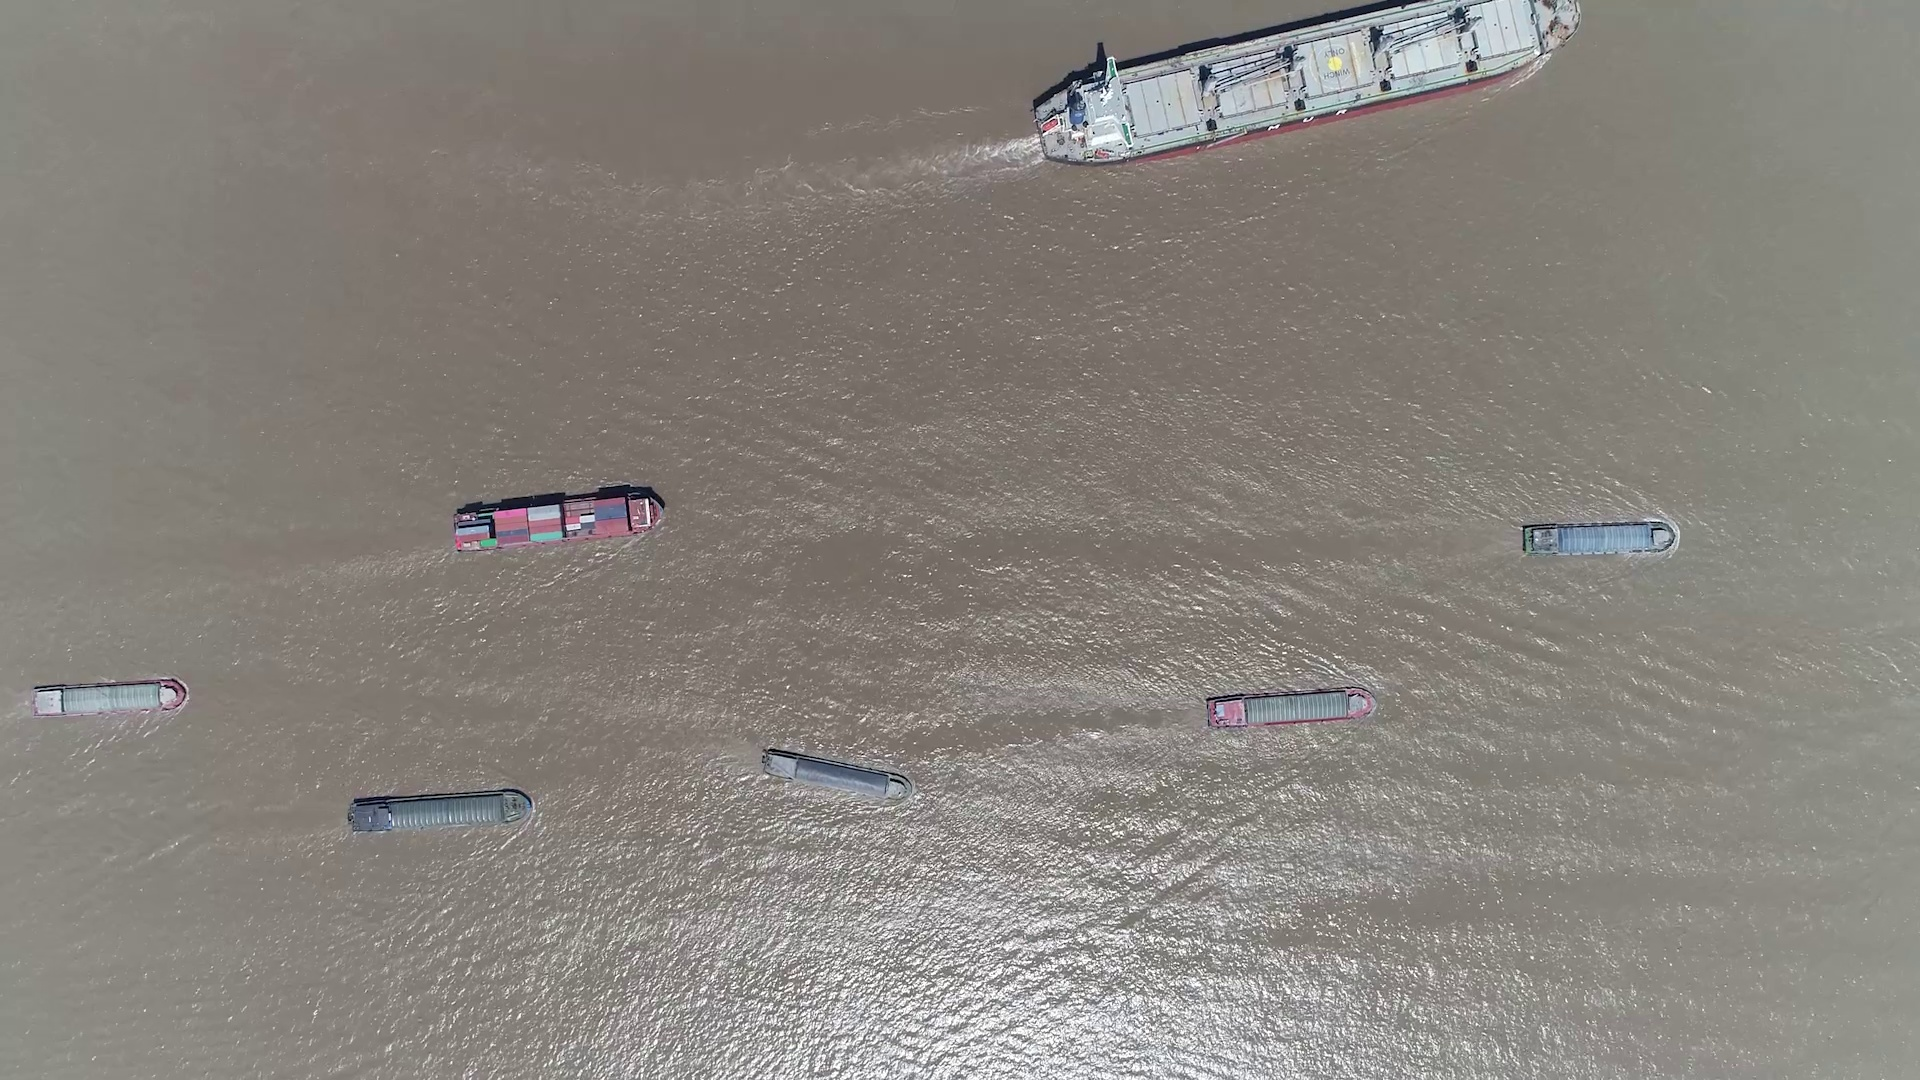ship: (1029, 0, 1582, 162), (451, 487, 665, 553), (761, 748, 914, 802), (348, 790, 531, 835), (1207, 687, 1375, 729), (28, 679, 187, 716), (1522, 522, 1677, 556)
